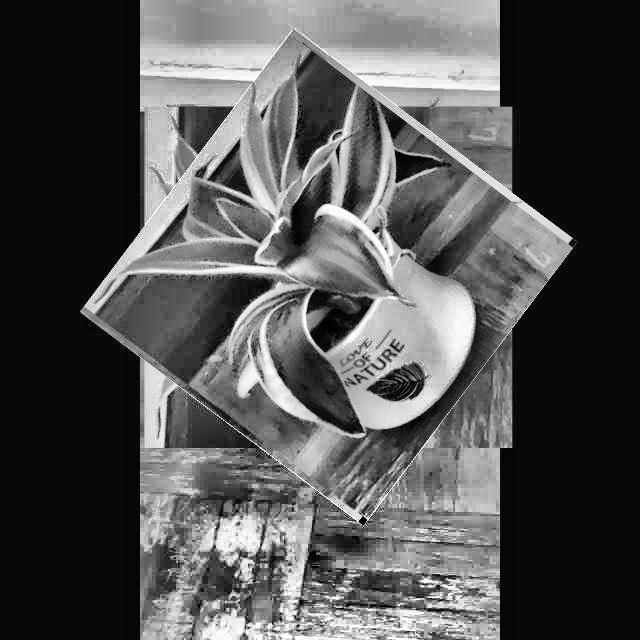plants: (116, 64, 542, 490)
